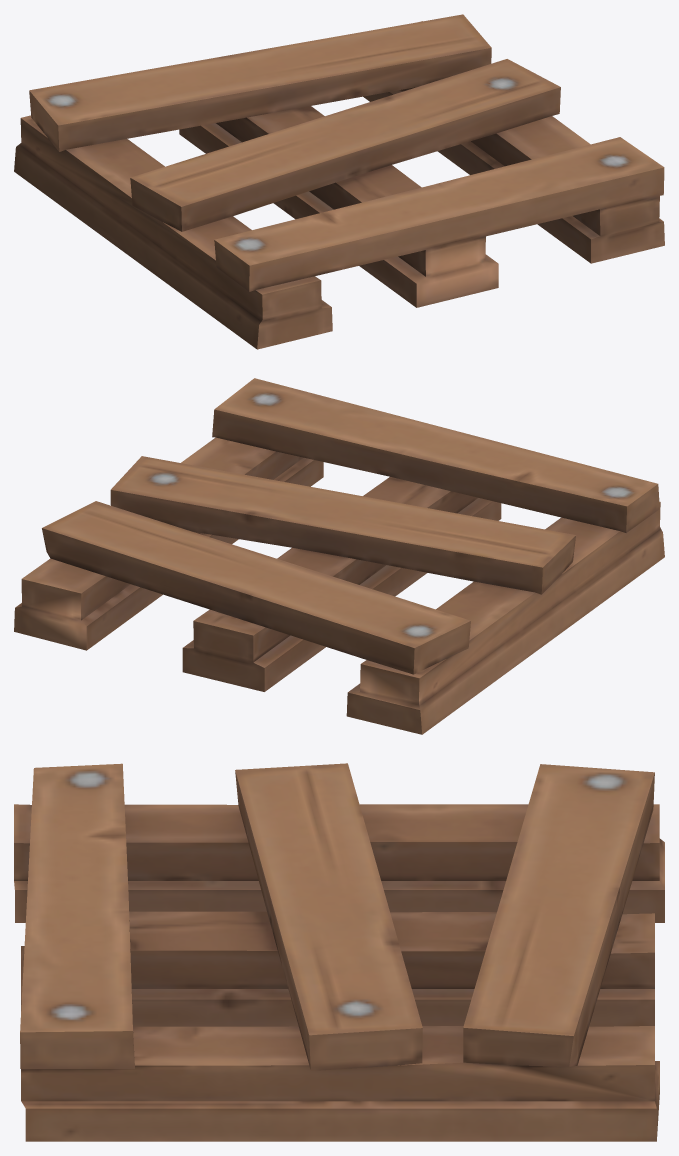
The model's file is Pfb_WoodenPallet.fbx.
3 renders of one model, top to bottom at view 1: azimuth 30°, elevation 25°; view 2: azimuth 150°, elevation 25°; view 3: azimuth 270°, elevation 25°, orthographic. The views are drawn at different scales.
Parts seen in each view (by area): view 1: Mat_WoodPallet_01_01; view 2: Mat_WoodPallet_01_01; view 3: Mat_WoodPallet_01_01.
Boxes of the visible parts, x1,y1,x2,y2 form: Mat_WoodPallet_01_01: (14,14,664,349); Mat_WoodPallet_01_01: (14,378,664,734); Mat_WoodPallet_01_01: (14,763,664,1141).
Bounding box in the file's own units: 1.87 × 0.3476 × 1.89.
1 material, 1 textured.
